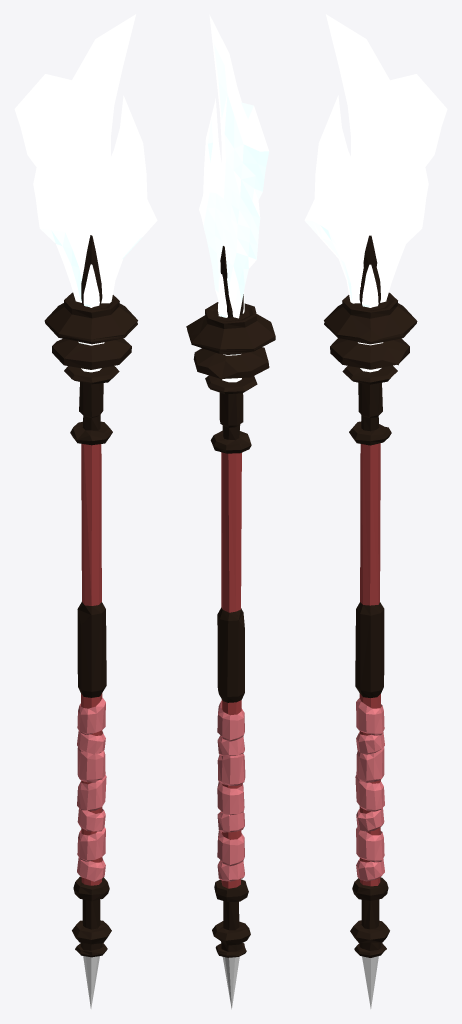
File: SFFA_Weapon_Spear_Runical_005.fbx
3 views of the same model, side by side, from view 1: azimuth 90°, elevation 25°; view 2: azimuth 210°, elevation 25°; view 3: azimuth 270°, elevation 25° (orthographic).
Parts seen in each view (by area): view 1: SFFA_Weapon_Spear_Runical_005; view 2: SFFA_Weapon_Spear_Runical_005; view 3: SFFA_Weapon_Spear_Runical_005.
Part boxes in pixels (x1=…): SFFA_Weapon_Spear_Runical_005: x1=14, y1=14, x2=157, y2=1008; SFFA_Weapon_Spear_Runical_005: x1=186, y1=14, x2=275, y2=1009; SFFA_Weapon_Spear_Runical_005: x1=304, y1=14, x2=447, y2=1008.
Size of the model in its own units: 17.15 by 201 by 26.17.
